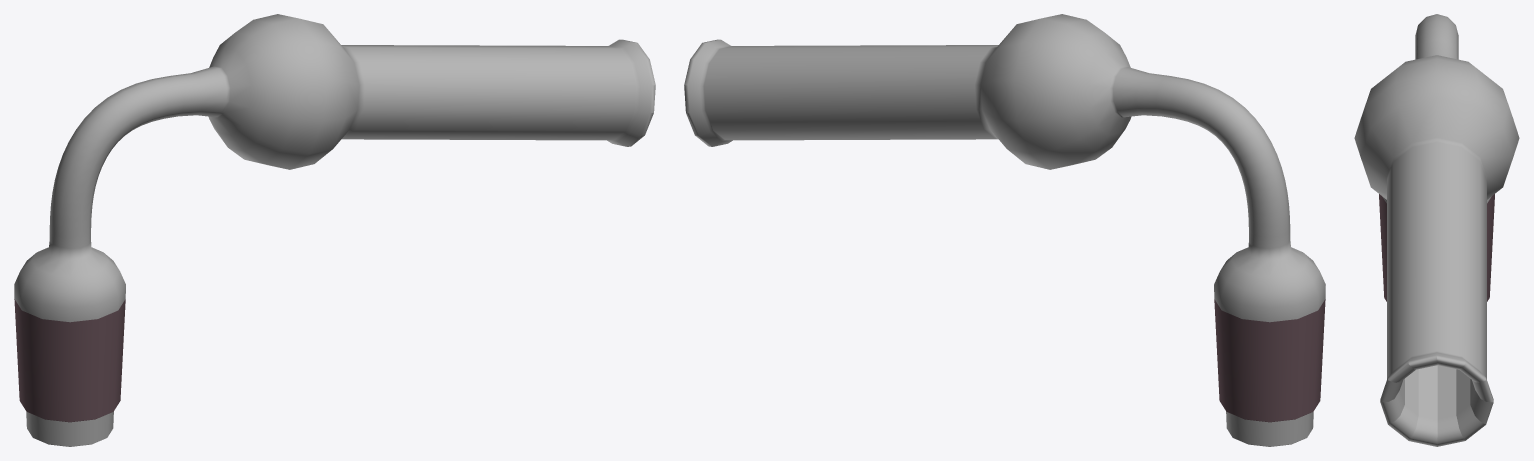
Rendered from 干燥管.obj.
3 views of the same model, side by side, from view 1: azimuth 30°, elevation 25°; view 2: azimuth 150°, elevation 25°; view 3: azimuth 270°, elevation 25° (orthographic). The views are drawn at different scales.
Parts seen in each view (by area): view 1: polySurface29 polySurface28 jiekou polySurface32, polySurface30 polySurface29 polySurface28 jiekou; view 2: polySurface29 polySurface28 jiekou polySurface32, polySurface30 polySurface29 polySurface28 jiekou; view 3: polySurface29 polySurface28 jiekou polySurface32, polySurface30 polySurface29 polySurface28 jiekou.
Boxes of the visible parts, x1,y1,x2,y2 form: polySurface29 polySurface28 jiekou polySurface32: [14, 14, 655, 446]; polySurface30 polySurface29 polySurface28 jiekou: [14, 299, 125, 422]; polySurface29 polySurface28 jiekou polySurface32: [684, 14, 1325, 446]; polySurface30 polySurface29 polySurface28 jiekou: [1214, 299, 1325, 422]; polySurface29 polySurface28 jiekou polySurface32: [1354, 14, 1519, 446]; polySurface30 polySurface29 polySurface28 jiekou: [1379, 194, 1494, 301].
Bounding box in the file's own units: 71.44 × 39.37 × 15.83.
